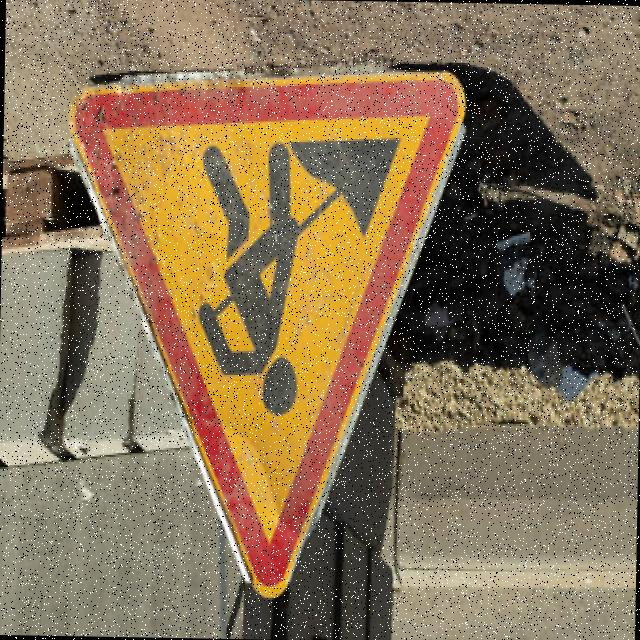road_work: (53, 59, 476, 600)
